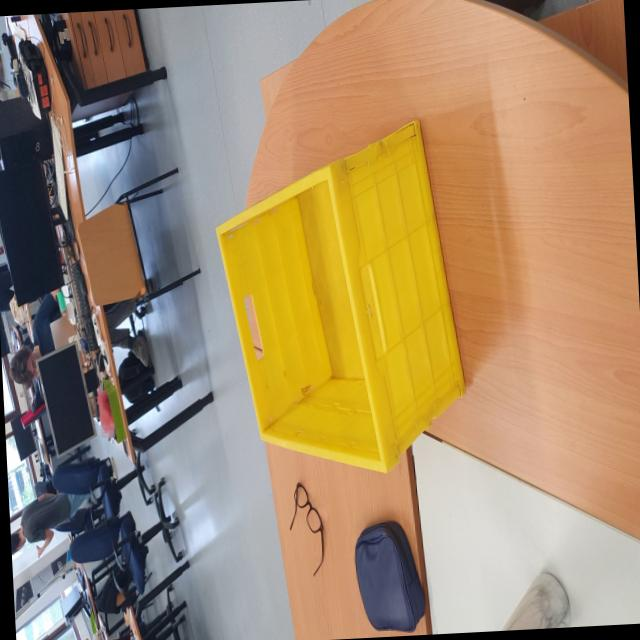box: (206, 116, 476, 484)
